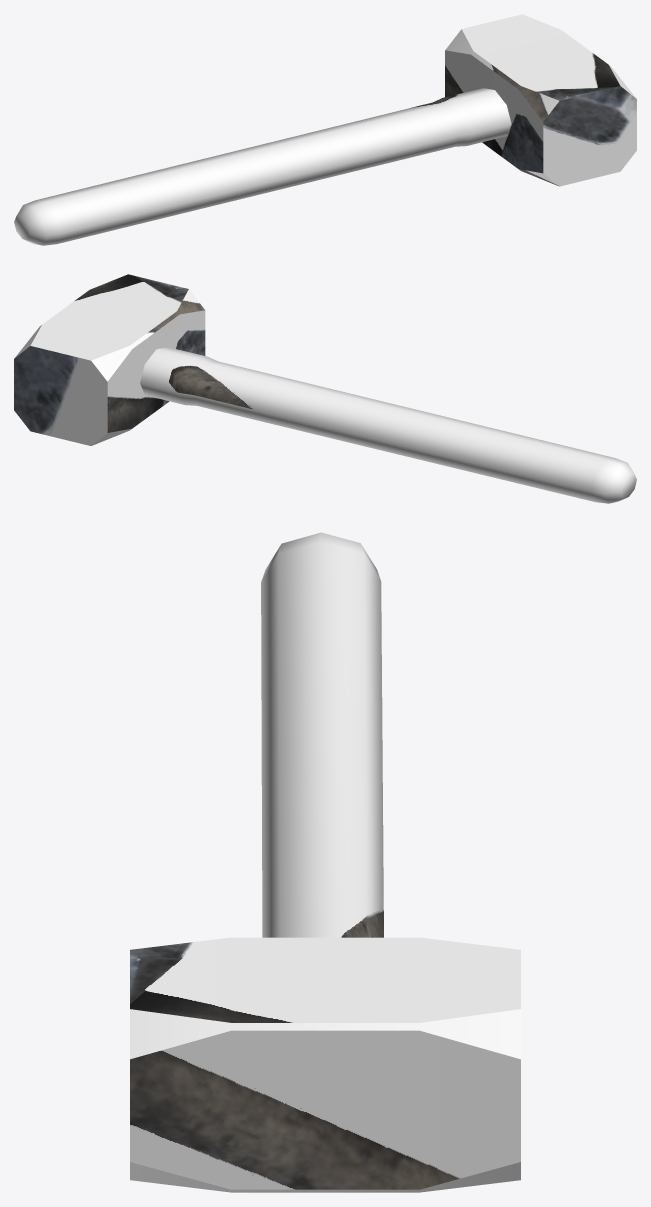
The model's file is Hammer_(Quest).fbx.
3 views of the same model, one above another, from view 1: azimuth 30°, elevation 25°; view 2: azimuth 150°, elevation 25°; view 3: azimuth 270°, elevation 25° (orthographic). The views are drawn at different scales.
Visible parts, largest first — view 1: Cylinder.029; view 2: Cylinder.029; view 3: Cylinder.029.
Boxes of the visible parts, x1,y1,x2,y2 form: Cylinder.029: (14,14,636,245); Cylinder.029: (14,274,636,503); Cylinder.029: (130,532,520,1192).
Bounding box in the file's own units: 436 × 63.09 × 131.
